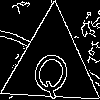Q: (26, 40, 79, 100)
